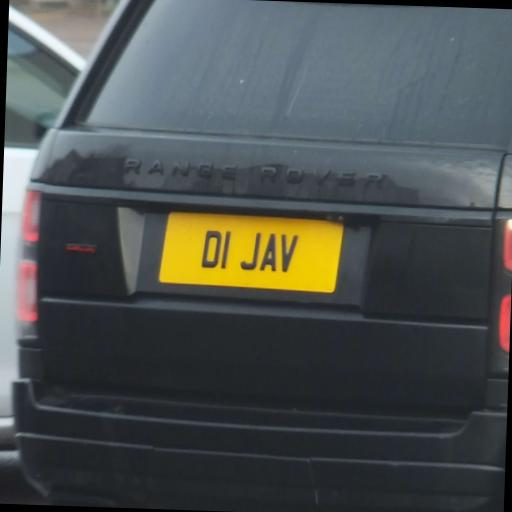numberplates: (160, 213, 343, 292)
